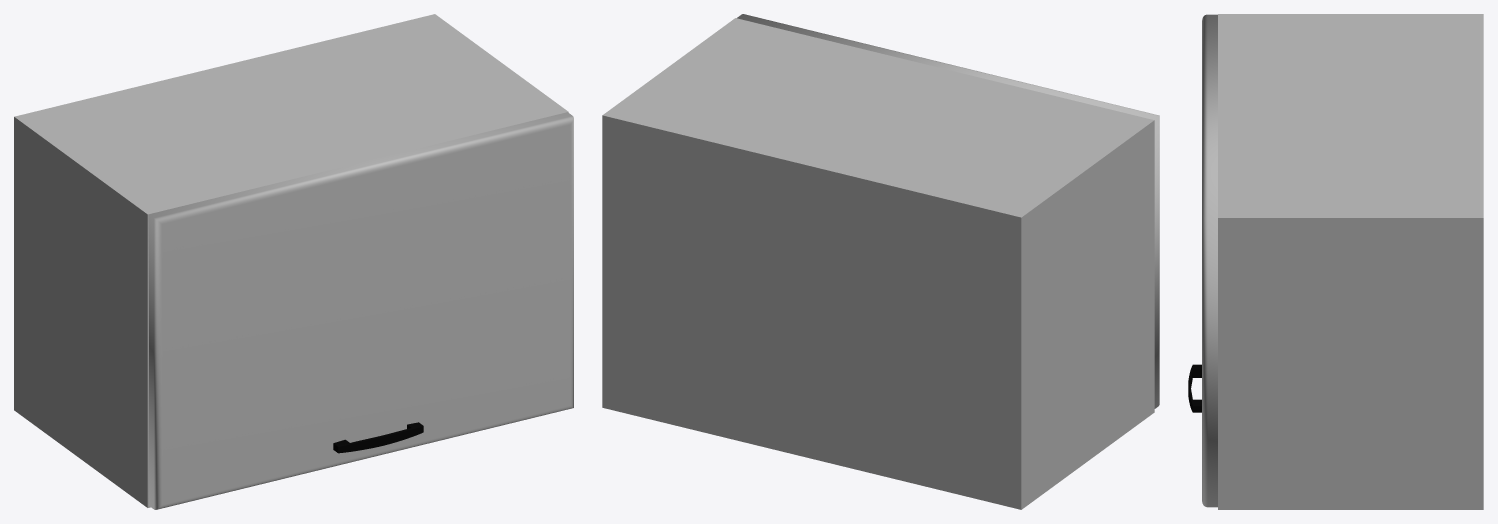
The picture shows the model from 3 angles, left to right: view 1: azimuth 30°, elevation 25°; view 2: azimuth 150°, elevation 25°; view 3: azimuth 270°, elevation 25°; orthographic projection.
Parts seen in each view (by area): view 1: Box011, Box001, Obj3d66-503491-2-356; view 2: Box001, Box011; view 3: Box001, Box011, Obj3d66-503491-2-356.
Boxes of the visible parts, box(x1,y1,x2,y2) form: Box011: box(149, 112, 573, 509); Box001: box(14, 14, 568, 507); Obj3d66-503491-2-356: box(333, 422, 423, 453); Box001: box(602, 18, 1154, 509); Box011: box(737, 14, 1159, 408); Box001: box(1218, 14, 1483, 509); Box011: box(1202, 14, 1217, 507); Obj3d66-503491-2-356: box(1188, 364, 1201, 412).
Bounding box in the file's own units: 0.6 × 0.4 × 0.3671.
2 materials, 1 textured.
